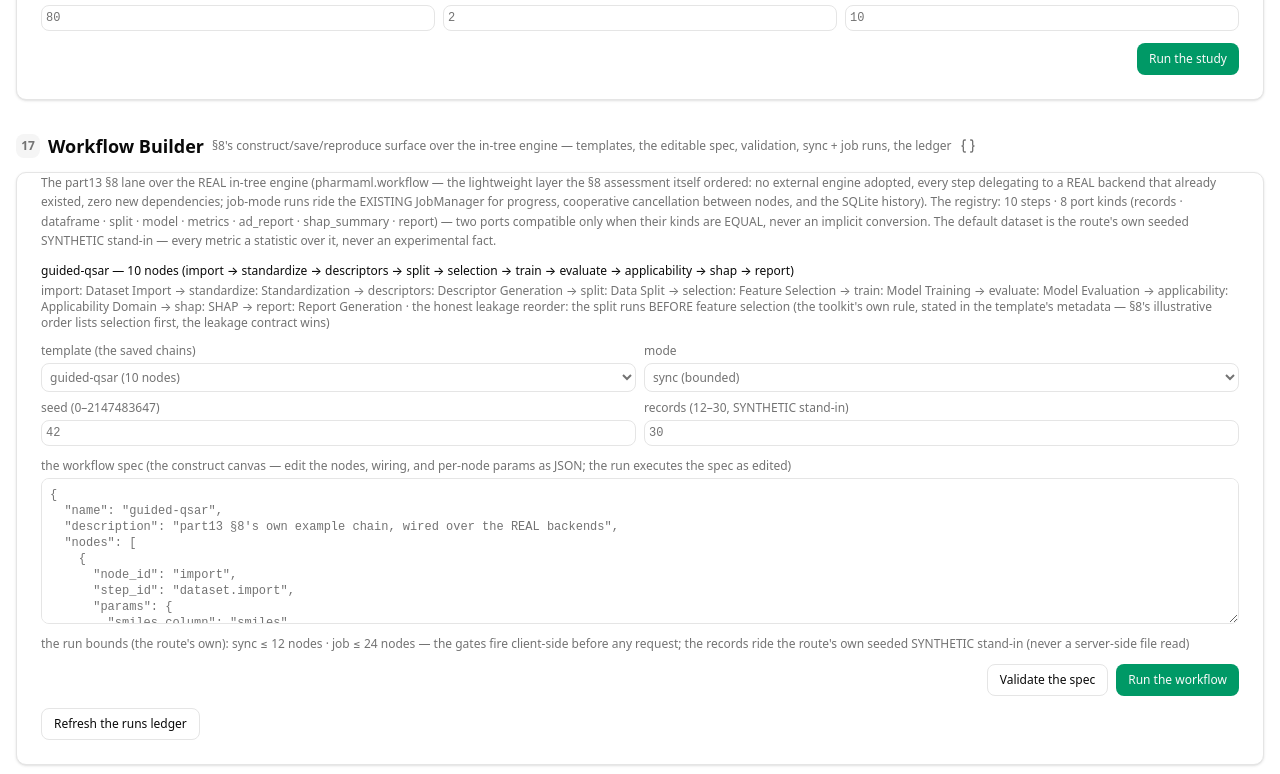
Test case: the §8 Workflow Builder lane of the Machine Learning workspace › relays the job-mode COMPLETED result through the authoritative REST lane
(page scrolled)
switch to job mode — the EXISTING JobManager lane
Select "job (the JobManager)" in the dropdown named "workflow run mode" at point(942, 377), box [644,363,1239,392]
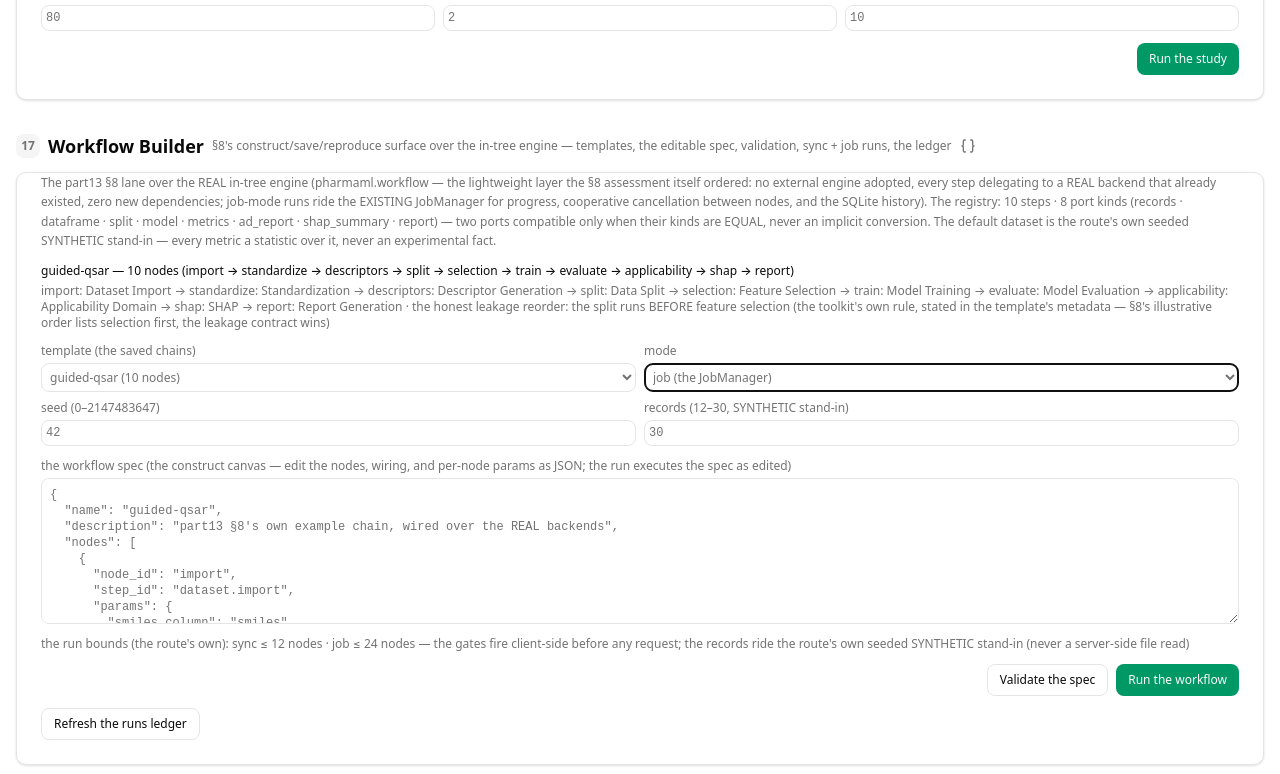
Click the button "Run the workflow" at point(1178, 680), box [1116,664,1239,696]
(page scrolled)
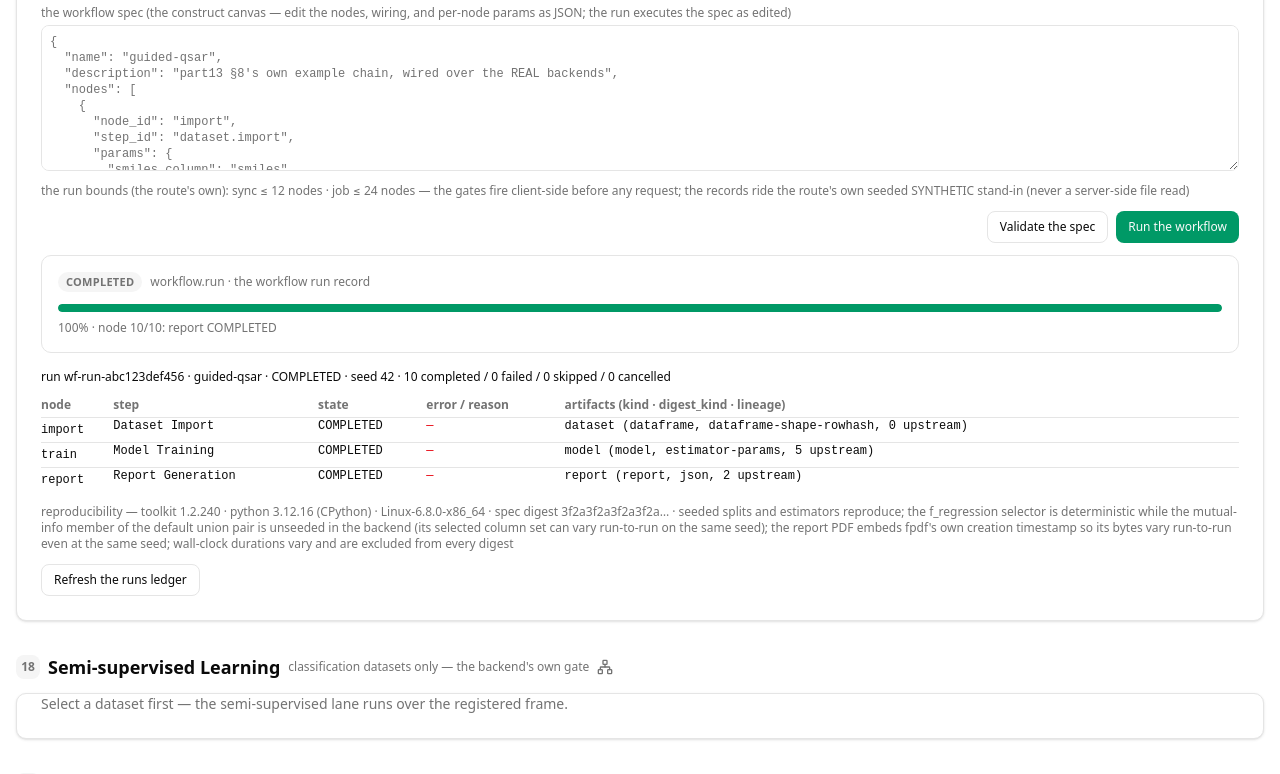
Expected: the text "run wf-run-abc123def456 · guided-qsar · COMPLETED" is shown, [41,368,671,385]
